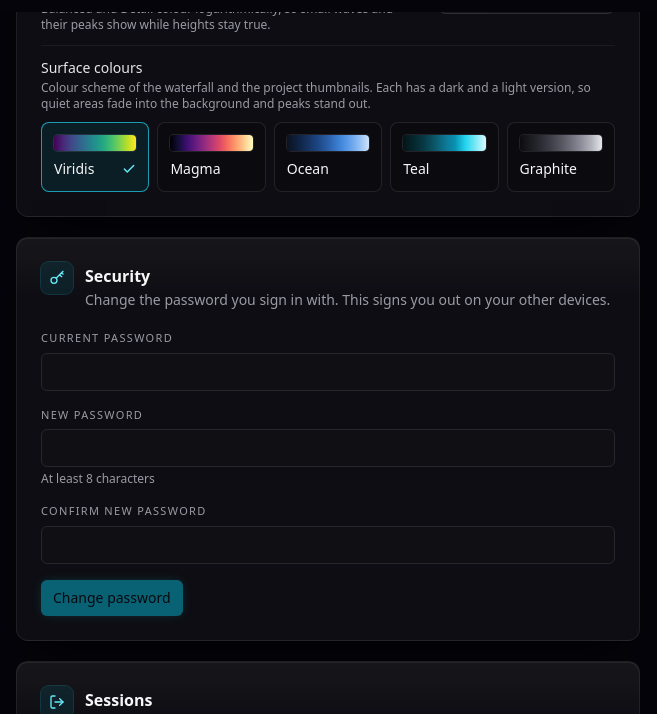
Test: Settings: password › changes the password, and stays signed in here with the new token
(page scrolled)
Type "old-secret" into the password field labelled "Current password". click: (328, 372)
box: [41,353,615,391]
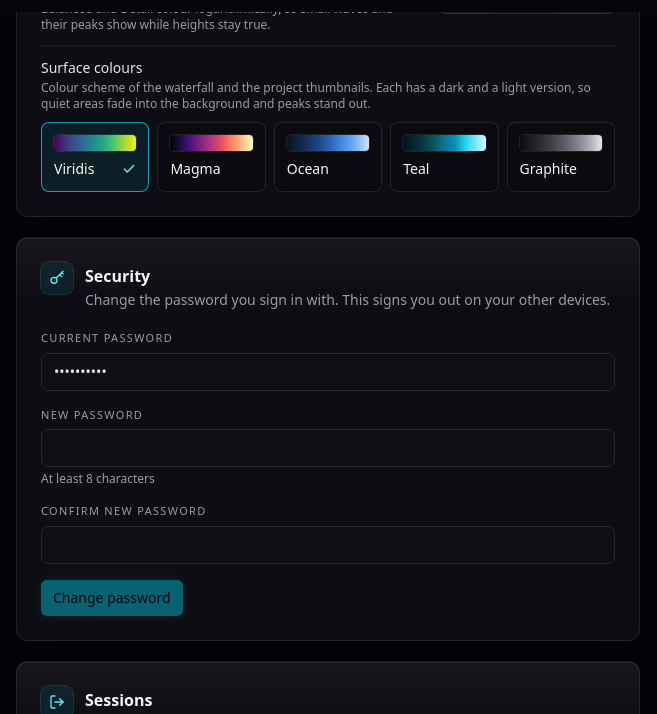
Type "new-secret-1" into the password field labelled "New password". click: (328, 448)
box: [41,429,615,467]
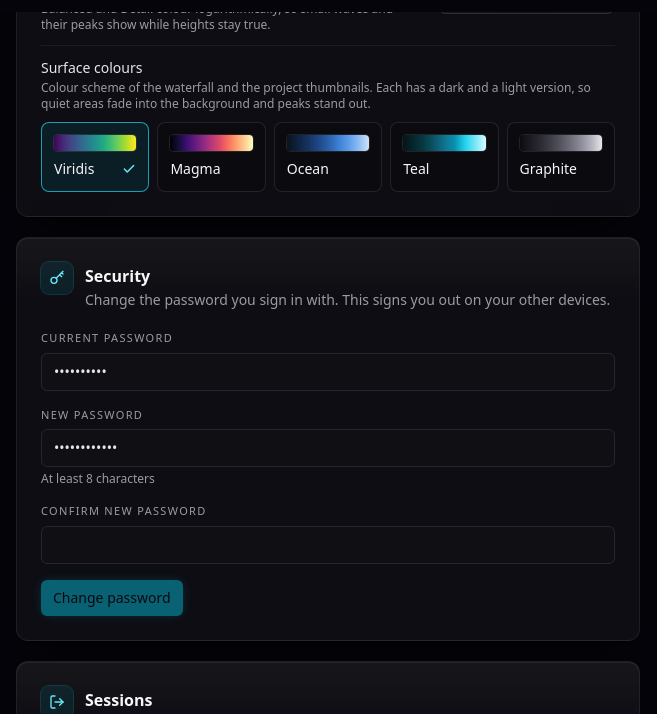
Type "new-secret-1" into the password field labelled "Confirm new password". click: (328, 545)
box: [41,526,615,564]
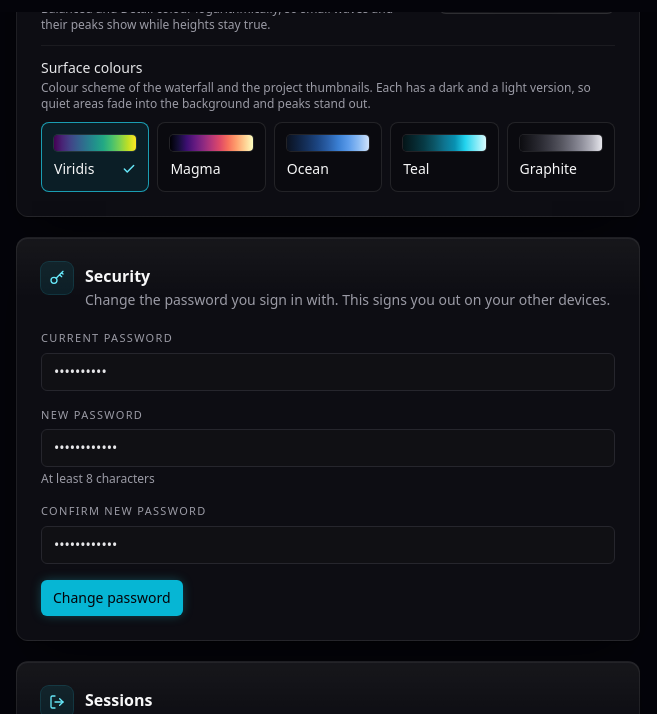
Click the button "Change password". click: (112, 598)
box: [41,580,183,616]
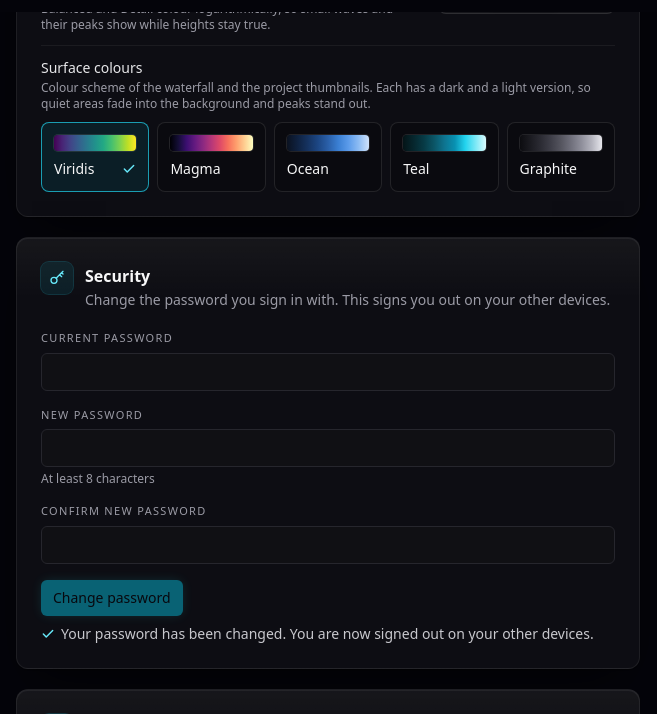
Now the text "Your password has been changed. You are now signed out on your other devices." is shown, box [41,624,594,644]
Now the password field labelled "Current password" is empty, box [41,353,615,391]
Now the password field labelled "New password" is empty, box [41,429,615,467]
